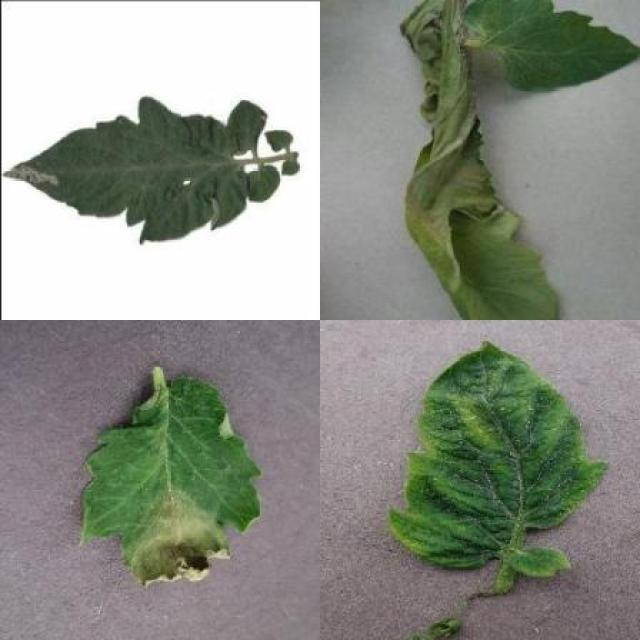Healthy: (463, 0, 640, 94)
Late Blight: (400, 0, 560, 320), (81, 376, 262, 590)
Leaf Miner: (1, 90, 250, 244)
Yellow Leaf Curl Virus: (387, 339, 610, 571)
